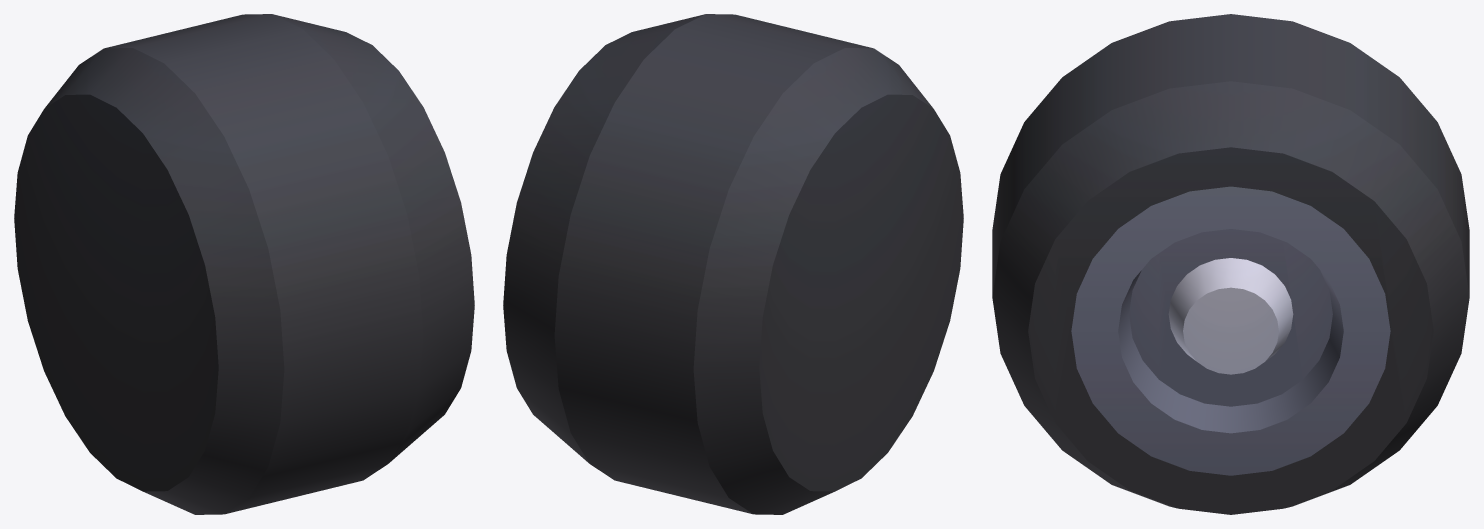
The model's file is kenney-car-wheel-tractor-dark-back.glb.
The picture shows the model from 3 angles, left to right: view 1: azimuth 30°, elevation 25°; view 2: azimuth 150°, elevation 25°; view 3: azimuth 270°, elevation 25°; orthographic projection.
Parts seen in each view (by area): view 1: wheel-tractor-dark-back; view 2: wheel-tractor-dark-back; view 3: wheel-tractor-dark-back.
Part boxes in pixels (x1=…): wheel-tractor-dark-back: x1=14, y1=14, x2=474, y2=514; wheel-tractor-dark-back: x1=503, y1=14, x2=963, y2=514; wheel-tractor-dark-back: x1=992, y1=14, x2=1469, y2=514.
Size of the model in its own units: 0.5375 by 0.8752 by 0.8752.
1 material, 1 textured.
